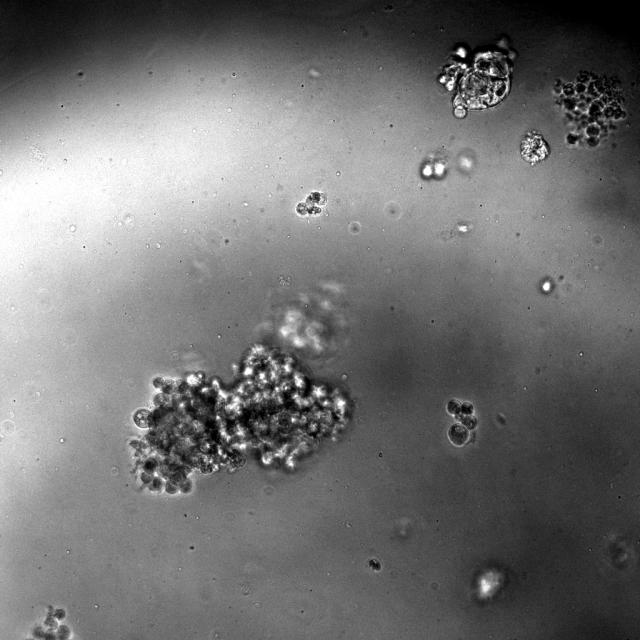organoid: (129, 283, 352, 493), (438, 35, 516, 118), (554, 71, 626, 148), (471, 563, 509, 605), (26, 606, 72, 639), (446, 398, 477, 446), (521, 130, 549, 165), (296, 191, 327, 216), (419, 154, 448, 180), (538, 276, 555, 294), (368, 557, 381, 572)
